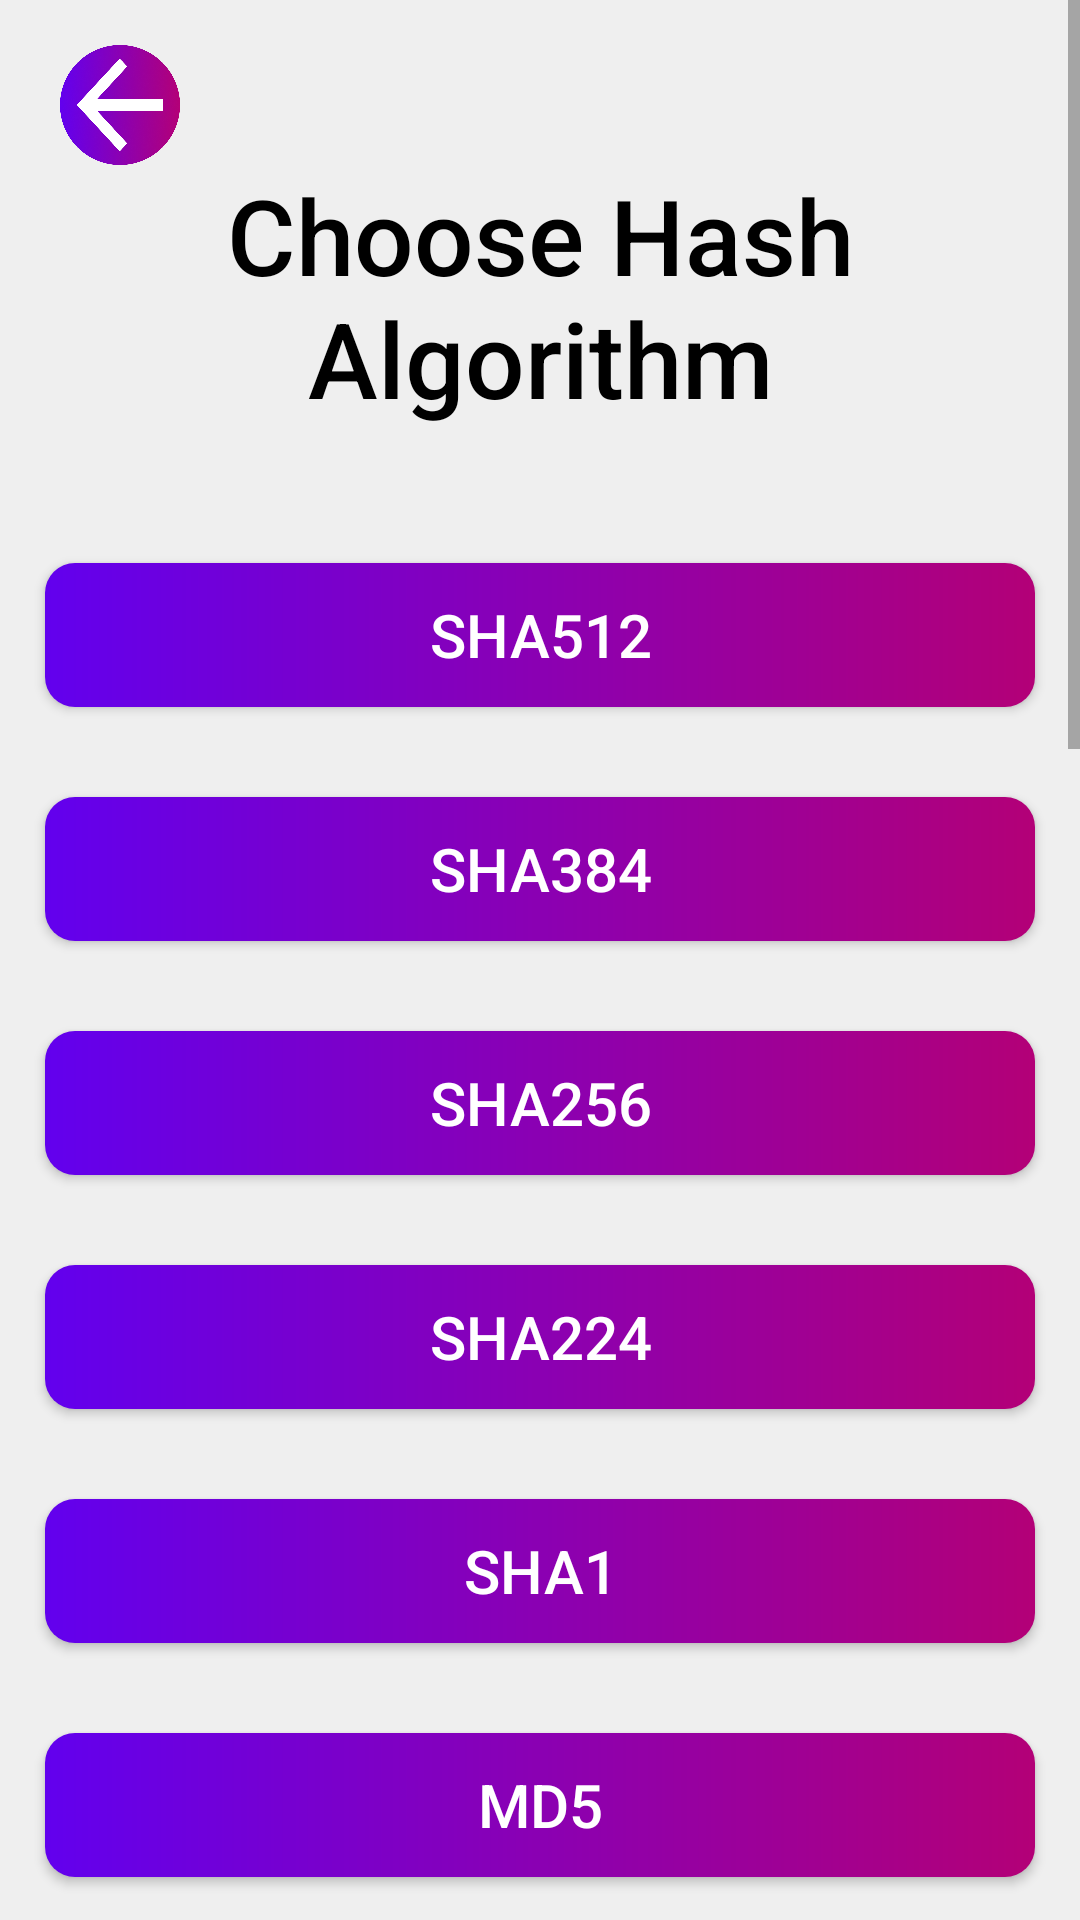

Screen size 1080x1920. Icon name, then its box in pixels as region(x1, y1, x2, y2):
back: region(60, 45, 180, 165)
